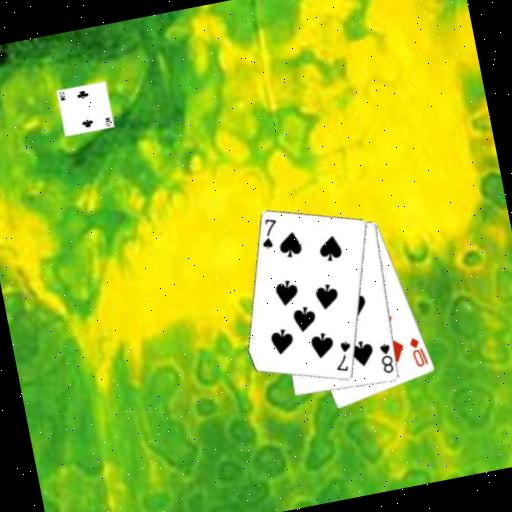10D: (406, 333, 431, 370)
7S: (328, 338, 357, 376), (255, 214, 284, 252)
8S: (375, 340, 397, 376)
